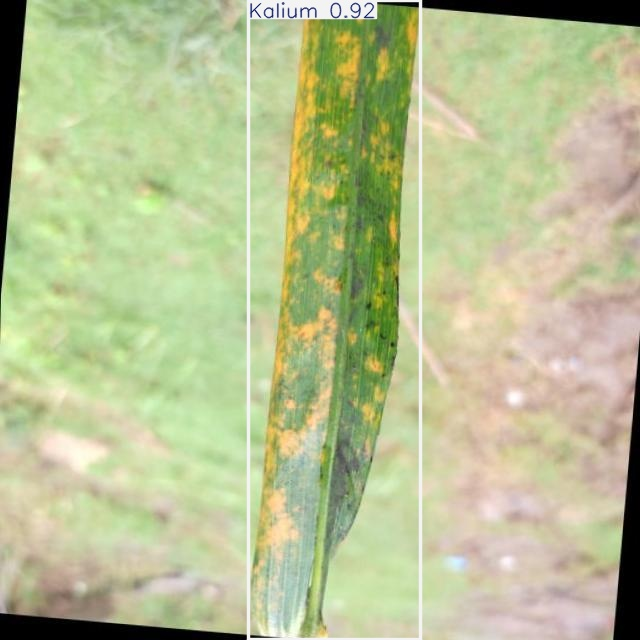Kalium: (249, 0, 421, 640)
